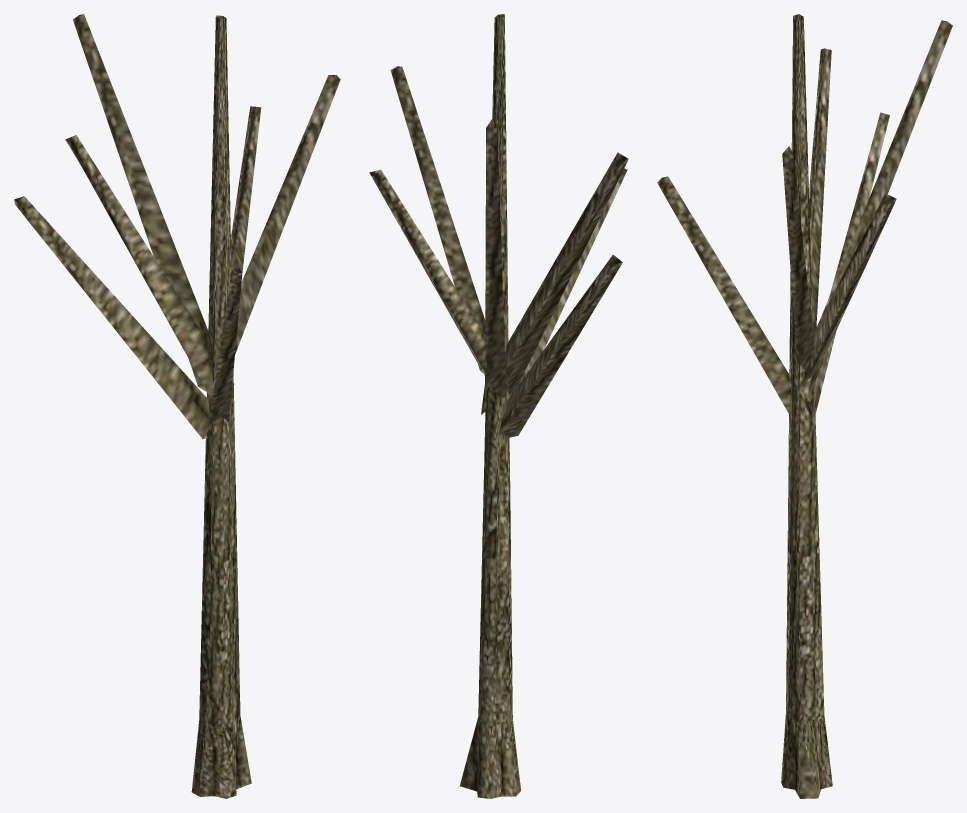
File: tree_tamarix_a.dae
The picture shows the model from 3 angles, left to right: view 1: azimuth 30°, elevation 25°; view 2: azimuth 150°, elevation 25°; view 3: azimuth 270°, elevation 25°; orthographic projection.
Parts seen in each view (by area): view 1: tree_oak_a; view 2: tree_oak_a; view 3: tree_oak_a.
Boxes of the visible parts, bbox=[...] form: tree_oak_a: bbox=[14, 14, 340, 798]; tree_oak_a: bbox=[369, 14, 628, 798]; tree_oak_a: bbox=[657, 14, 952, 798].
Bounding box in the file's own units: 4.15 × 3.87 × 11.07.
